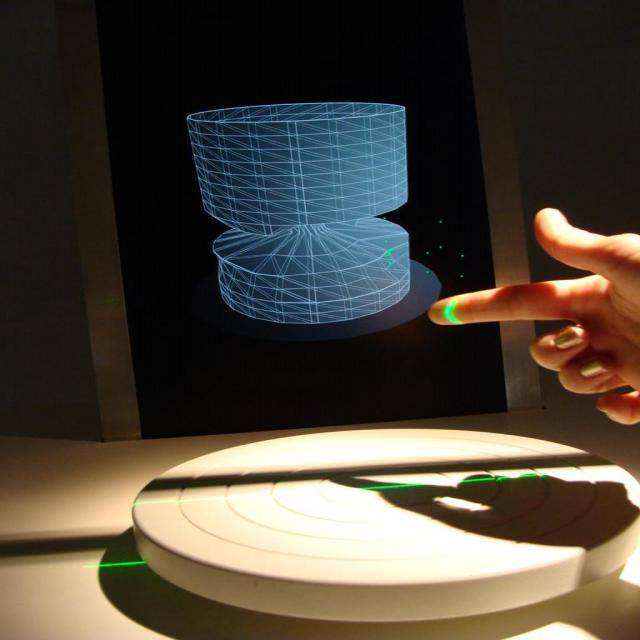Table: (80, 402, 636, 640)
